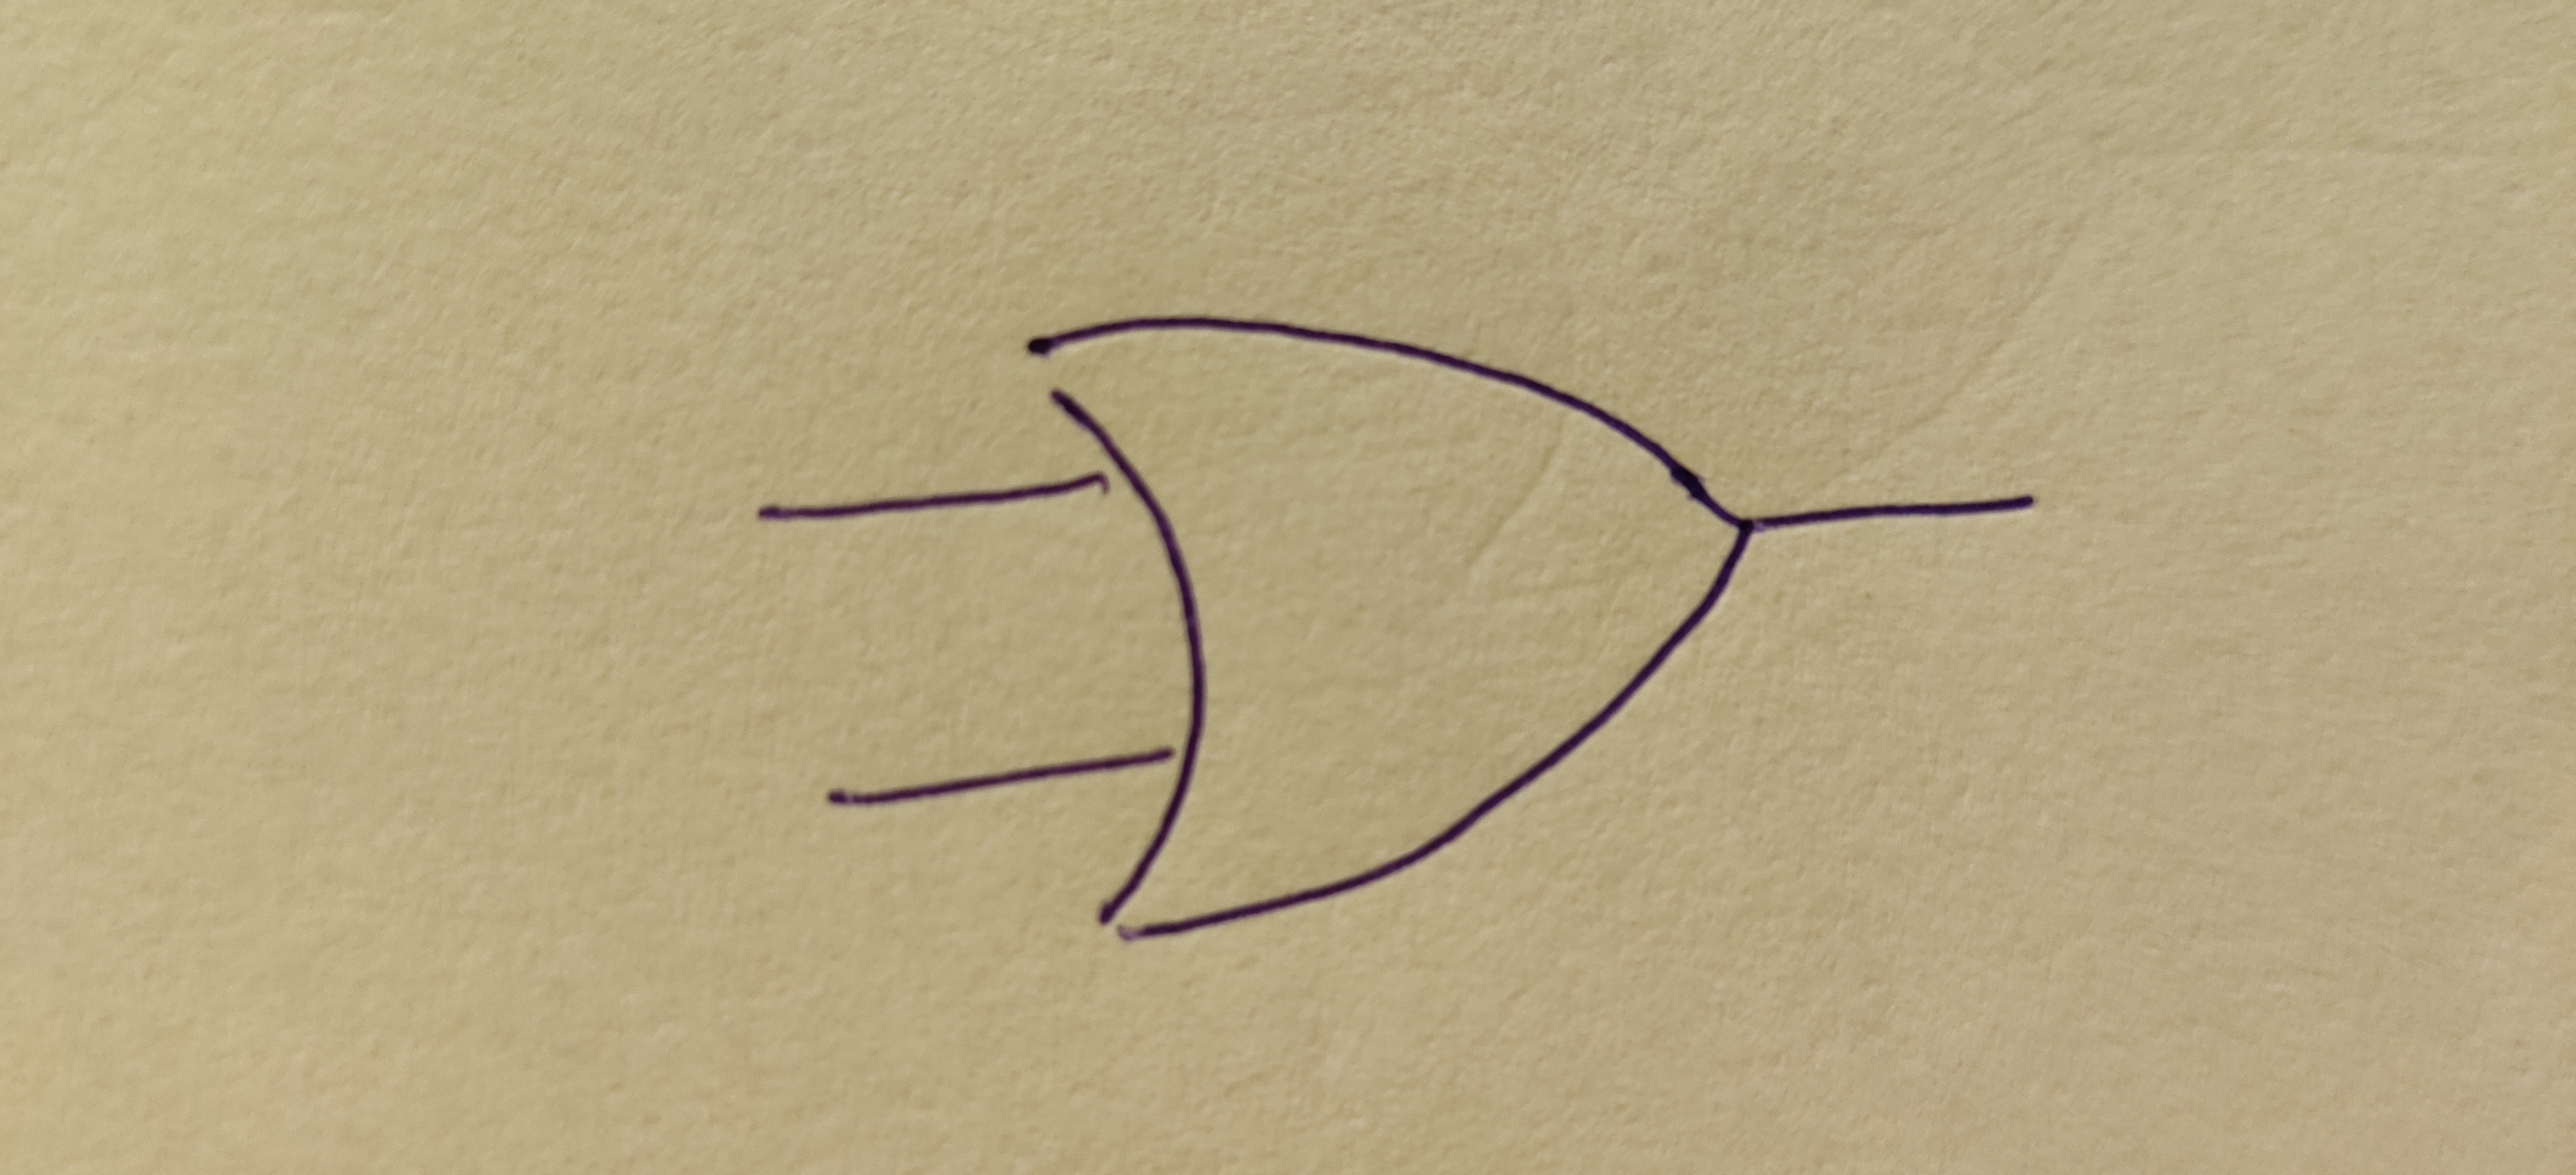or: (1025, 319, 1746, 937)
